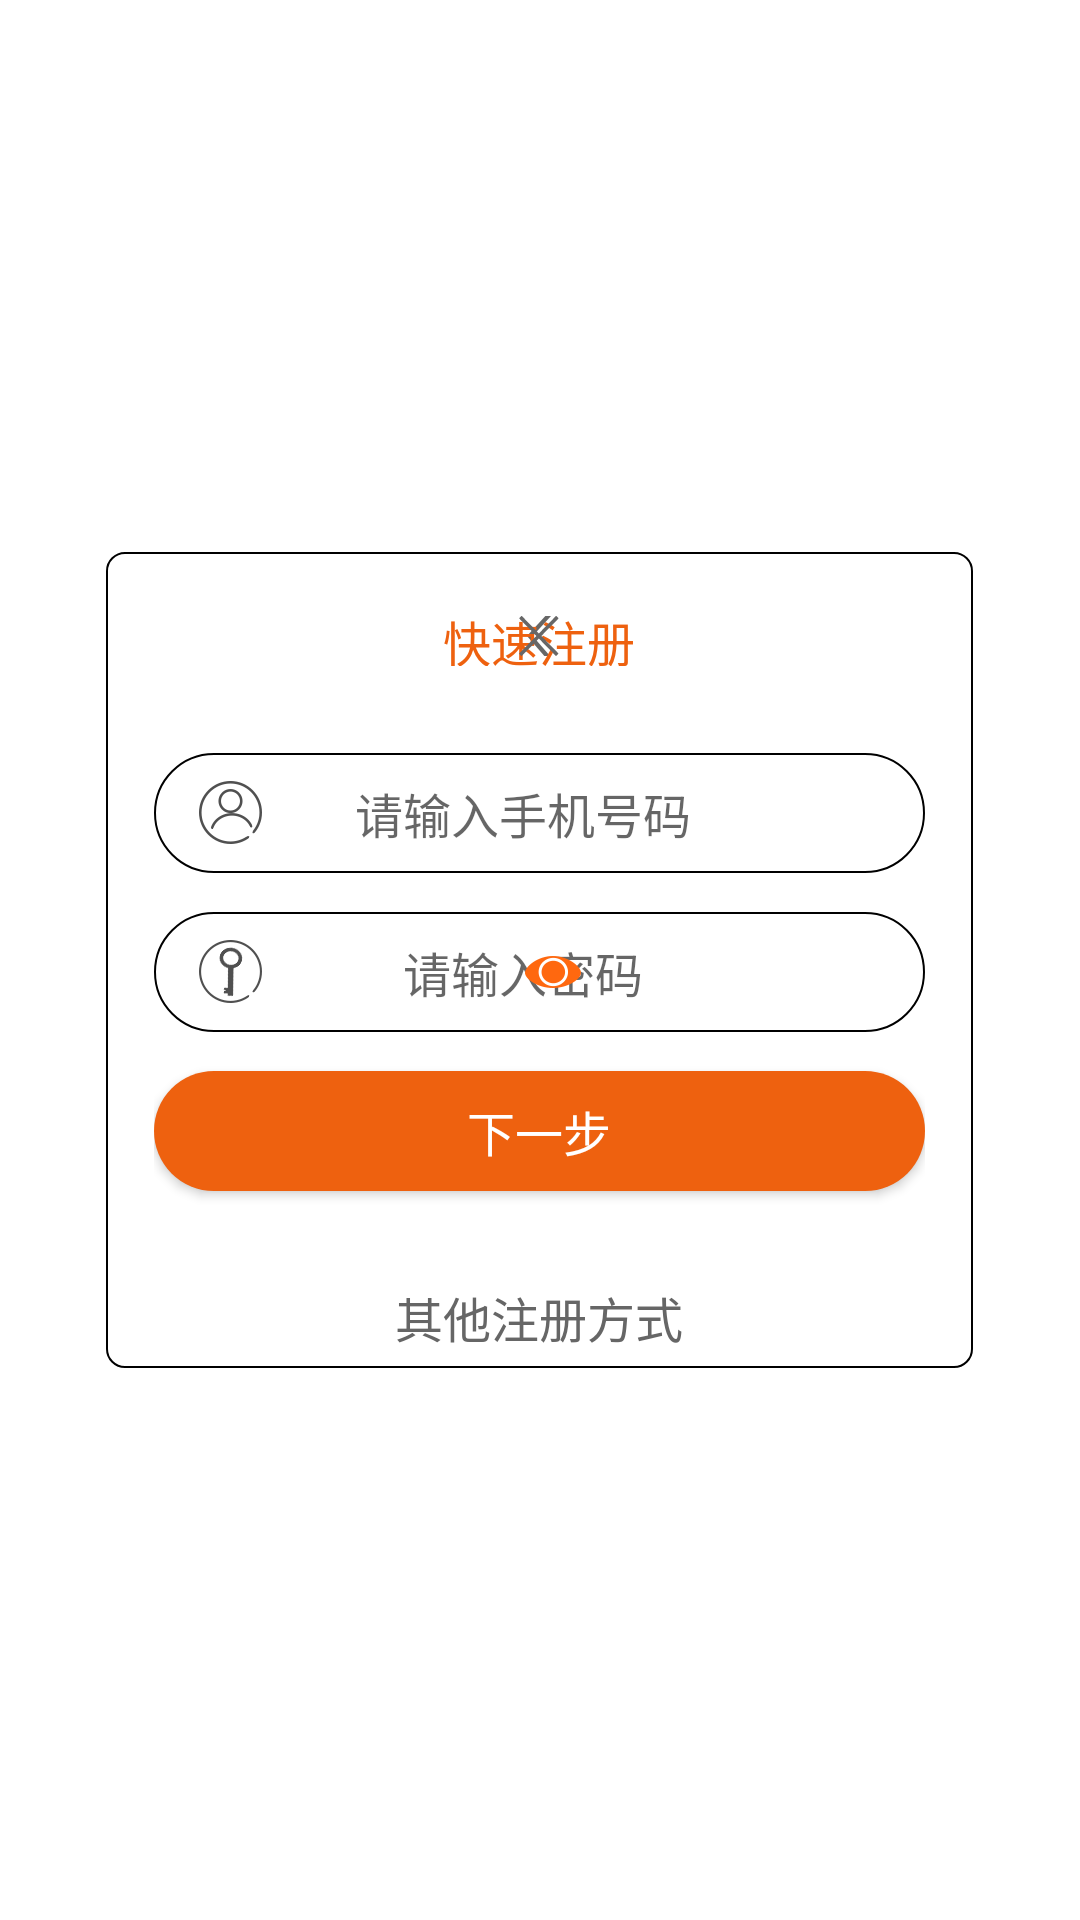

Where to tap for icons on this 1080 x 1920 app screen, as (x=x, y=y):
ui eye: (x=553, y=972)
ui login password: (x=230, y=971)
ui login user: (x=230, y=812)
